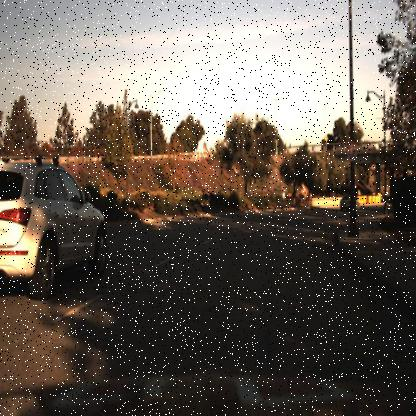car: (0, 160, 112, 302), (339, 189, 361, 212)
